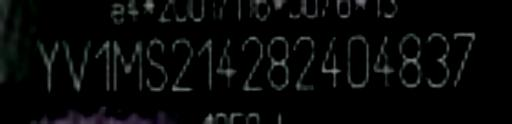letter: (106, 32, 150, 96), (58, 32, 94, 104), (446, 29, 482, 97), (29, 32, 65, 96), (263, 29, 295, 93), (394, 29, 424, 93), (314, 29, 344, 93), (142, 32, 172, 96), (288, 32, 318, 96), (370, 29, 398, 93), (424, 29, 452, 93), (168, 32, 196, 96), (238, 32, 266, 96), (344, 29, 372, 90), (212, 32, 240, 93), (194, 32, 218, 93), (92, 35, 112, 96)
